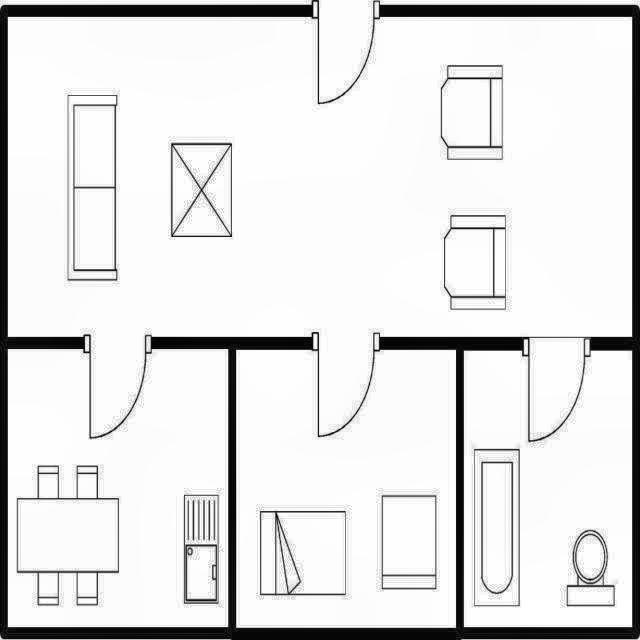room: (8, 16, 632, 337), (8, 348, 228, 626), (236, 349, 456, 626), (464, 352, 631, 626)
